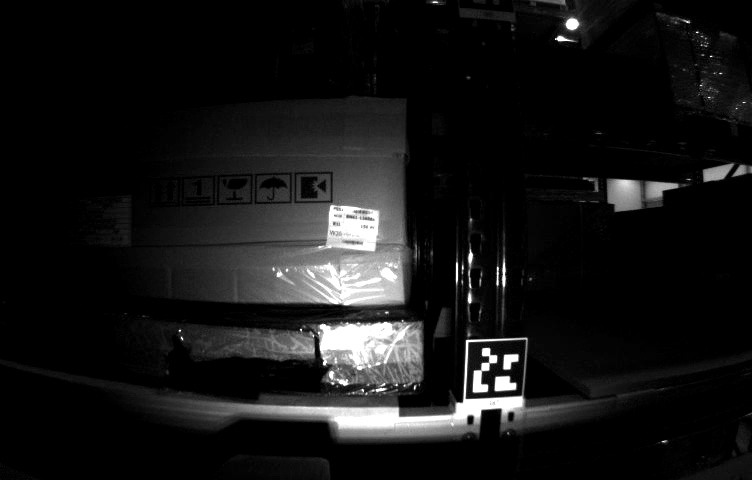True Barcode: (327, 206, 377, 253)
